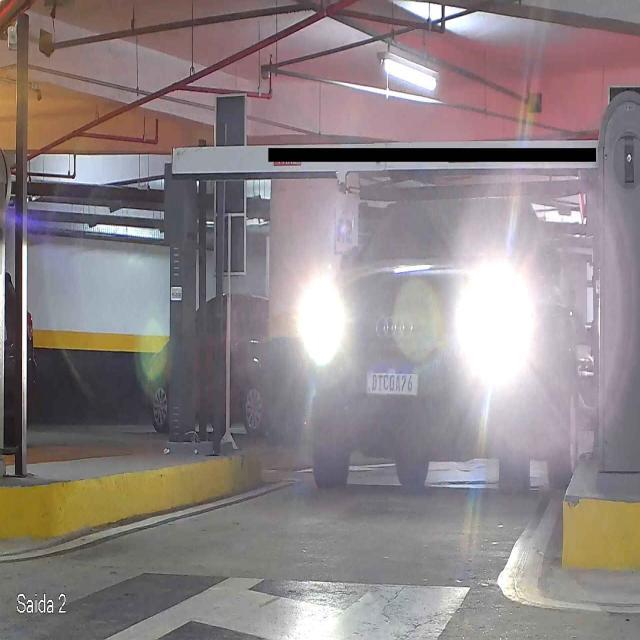mercosul_plate: (365, 365, 420, 397)
